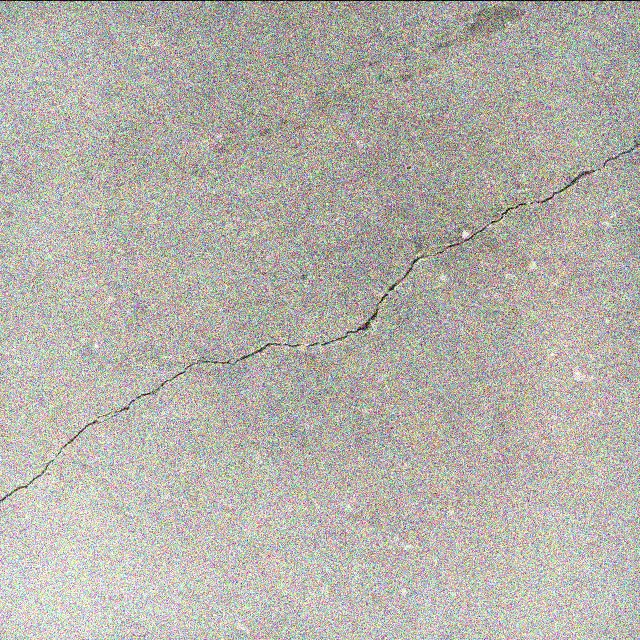SurfaceCrack: (1, 100, 640, 557)
